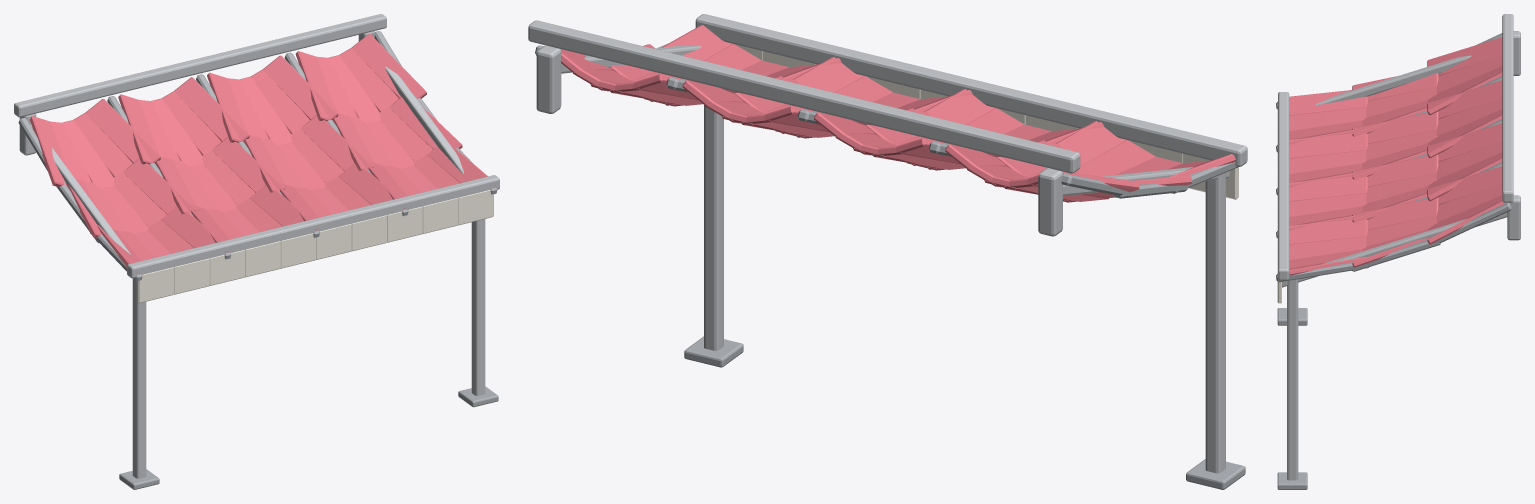
Rendered from misc_awning.glb.
3 renders of one model, left to right at view 1: azimuth 30°, elevation 25°; view 2: azimuth 150°, elevation 25°; view 3: azimuth 270°, elevation 25°, orthographic. The views are drawn at different scales.
Parts seen in each view (by area): view 1: misc_awning_canvas, misc_awning_valance, misc_awning_wall_rail, misc_awning_front_bar, misc_awning_post_l, misc_awning_post_r, misc_awning_ribs, misc_awning_arm_r, misc_awning_arm_l; view 2: misc_awning_canvas, misc_awning_wall_rail, misc_awning_front_bar, misc_awning_post_l, misc_awning_post_r, misc_awning_valance, misc_awning_ribs, misc_awning_stub_r, misc_awning_stub_l, misc_awning_post_foot_r, misc_awning_post_foot_l, misc_awning_arm_l; view 3: misc_awning_canvas, misc_awning_post_r, misc_awning_wall_rail, misc_awning_front_bar, misc_awning_ribs, misc_awning_arm_l, misc_awning_arm_r, misc_awning_stub_r, misc_awning_post_foot_r, misc_awning_stub_l, misc_awning_post_foot_l.
Boxes of the visible parts, <box> form: misc_awning_canvas: <box>30,34,495,274</box>; misc_awning_valance: <box>136,190,493,303</box>; misc_awning_wall_rail: <box>14,14,386,117</box>; misc_awning_front_bar: <box>127,175,499,278</box>; misc_awning_post_l: <box>132,278,146,478</box>; misc_awning_post_r: <box>471,219,485,395</box>; misc_awning_ribs: <box>18,31,497,281</box>; misc_awning_arm_r: <box>385,67,463,173</box>; misc_awning_arm_l: <box>30,124,130,254</box>; misc_awning_canvas: <box>560,25,1235,202</box>; misc_awning_wall_rail: <box>528,20,1080,173</box>; misc_awning_front_bar: <box>695,14,1247,166</box>; misc_awning_post_l: <box>1205,172,1225,473</box>; misc_awning_post_r: <box>704,105,723,350</box>; misc_awning_valance: <box>735,44,1238,199</box>; misc_awning_ribs: <box>535,43,1238,198</box>; misc_awning_stub_r: <box>536,45,561,113</box>; misc_awning_stub_l: <box>1038,168,1062,236</box>; misc_awning_post_foot_r: <box>684,336,743,367</box>; misc_awning_post_foot_l: <box>1186,459,1245,489</box>; misc_awning_arm_l: <box>1063,167,1229,196</box>; misc_awning_canvas: <box>1289,37,1506,275</box>; misc_awning_post_r: <box>1287,279,1298,480</box>; misc_awning_wall_rail: <box>1502,14,1513,202</box>; misc_awning_front_bar: <box>1278,92,1289,280</box>; misc_awning_ribs: <box>1276,33,1511,282</box>; misc_awning_arm_l: <box>1315,55,1471,105</box>; misc_awning_arm_r: <box>1282,212,1507,287</box>; misc_awning_stub_r: <box>1507,195,1520,240</box>; misc_awning_post_foot_r: <box>1277,472,1307,489</box>; misc_awning_stub_l: <box>1513,31,1520,75</box>; misc_awning_post_foot_l: <box>1277,308,1307,325</box>.
Bounding box in the file's own units: 2.85 × 2.19 × 1.62.
